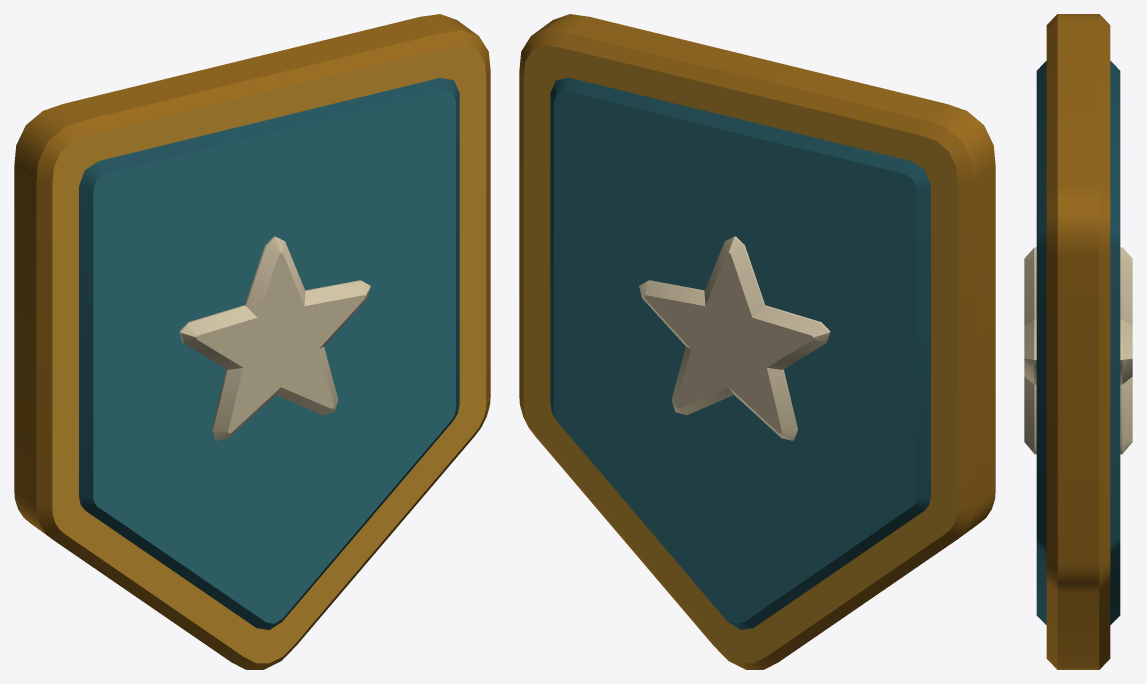
File: Badge_07.glb
The picture shows the model from 3 angles, left to right: view 1: azimuth 30°, elevation 25°; view 2: azimuth 150°, elevation 25°; view 3: azimuth 270°, elevation 25°; orthographic projection. The views are drawn at different scales.
Visible parts, largest first — view 1: Badge_07; view 2: Badge_07; view 3: Badge_07.
Boxes of the visible parts, left/top/right/bottom form: Badge_07: left=14, top=14, right=490, bottom=669; Badge_07: left=519, top=14, right=995, bottom=669; Badge_07: left=1024, top=14, right=1132, bottom=669.
Size of the model in its own units: 2.02 by 2.52 by 0.44.
